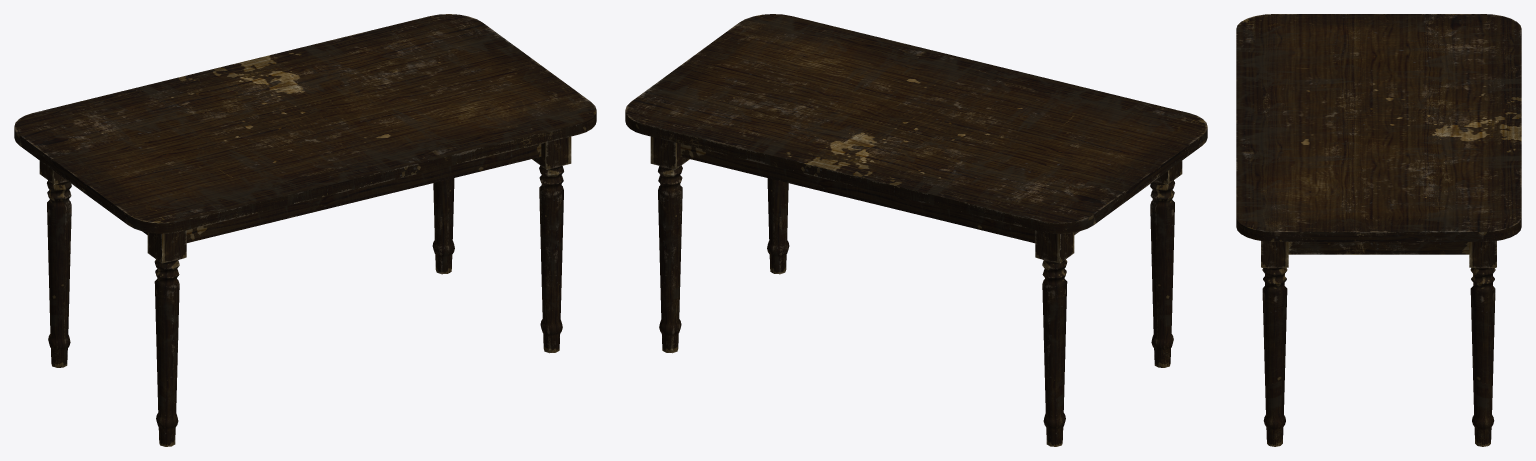
The model's file is SM_Table_Old.fbx.
3 views of the same model, side by side, from view 1: azimuth 30°, elevation 25°; view 2: azimuth 150°, elevation 25°; view 3: azimuth 270°, elevation 25° (orthographic). The views are drawn at different scales.
Parts seen in each view (by area): view 1: SM_Table_Old; view 2: SM_Table_Old; view 3: SM_Table_Old.
Part boxes in pixels (<box>): SM_Table_Old: <box>14,14,596,446</box>; SM_Table_Old: <box>625,14,1207,446</box>; SM_Table_Old: <box>1236,14,1521,446</box>.
Size of the model in its own units: 1.63 by 0.8001 by 0.9.
